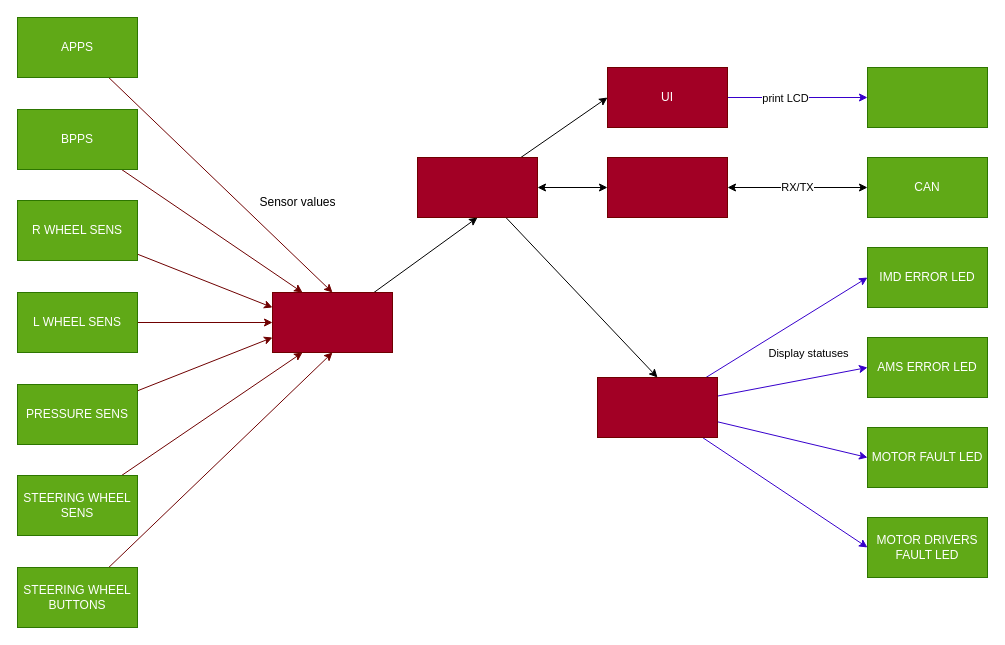
Image size: 1005x645. Some labels were removed from this diagram. Here are the shapes that lost their labels. From the top down, the centre of each, then its label:
the point at 927,97: LCD
the point at 477,187: APPLICATION
the point at 667,187: NETWORK MANAGER
the point at 332,322: PROCESS INPUTS
the point at 657,407: INDICATORS CONTROL
